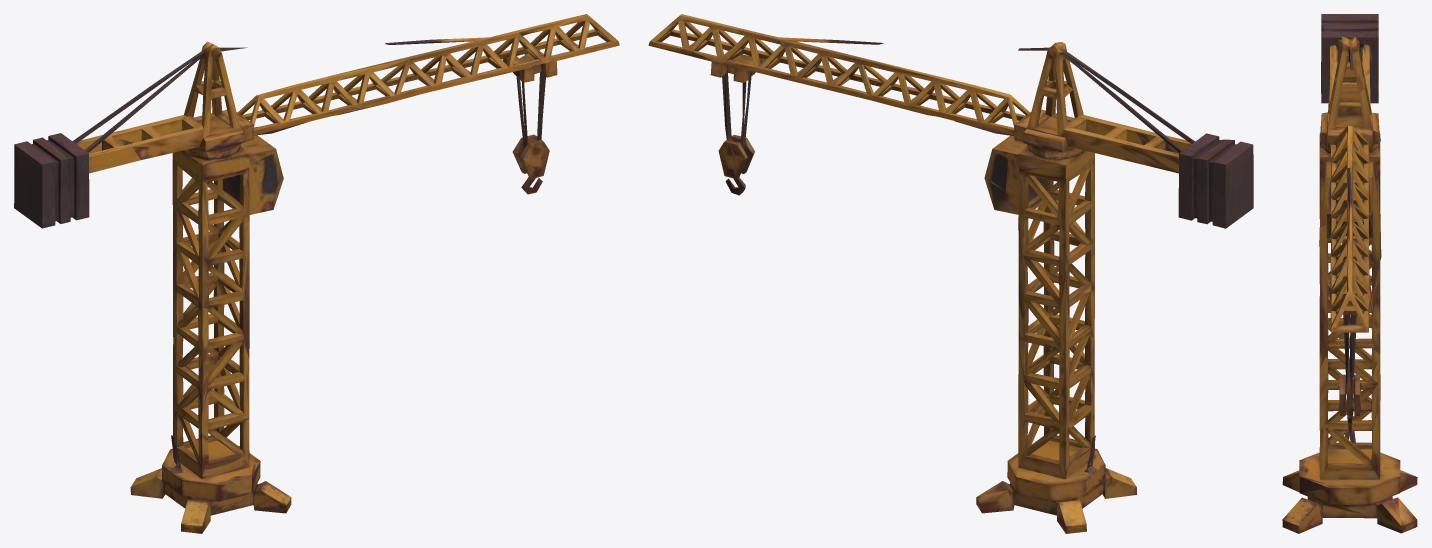
The model's file is bg_industrial_crane_1_lod0.glb.
3 renders of one model, left to right at view 1: azimuth 30°, elevation 25°; view 2: azimuth 150°, elevation 25°; view 3: azimuth 270°, elevation 25°, orthographic. The views are drawn at different scales.
Visible parts, largest first — view 1: body; view 2: body; view 3: body.
Part boxes in pixels (x1=…): body: x1=14, y1=14, x2=619, y2=533; body: x1=648, y1=14, x2=1253, y2=533; body: x1=1282, y1=14, x2=1417, y2=533.
Size of the model in its own units: 11.99 by 8.99 by 2.34.
1 material, 1 textured.
